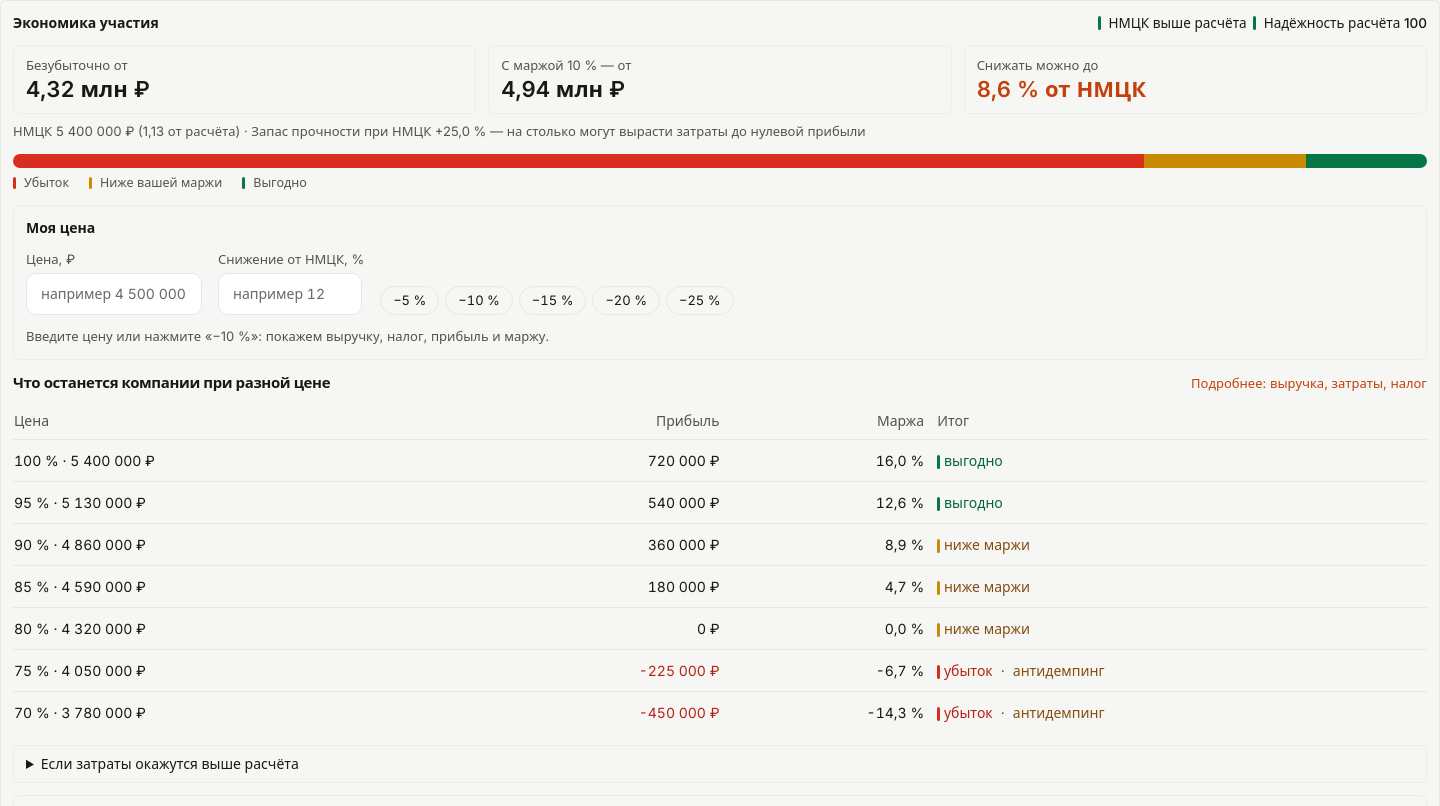
Test: «Моя цена» › 44-ФЗ: антидемпинг без «если», и ровно с 25 %; на −20 % его нет
Step 1. Click the button "−20 %" → (626, 300), box [592, 286, 660, 315]
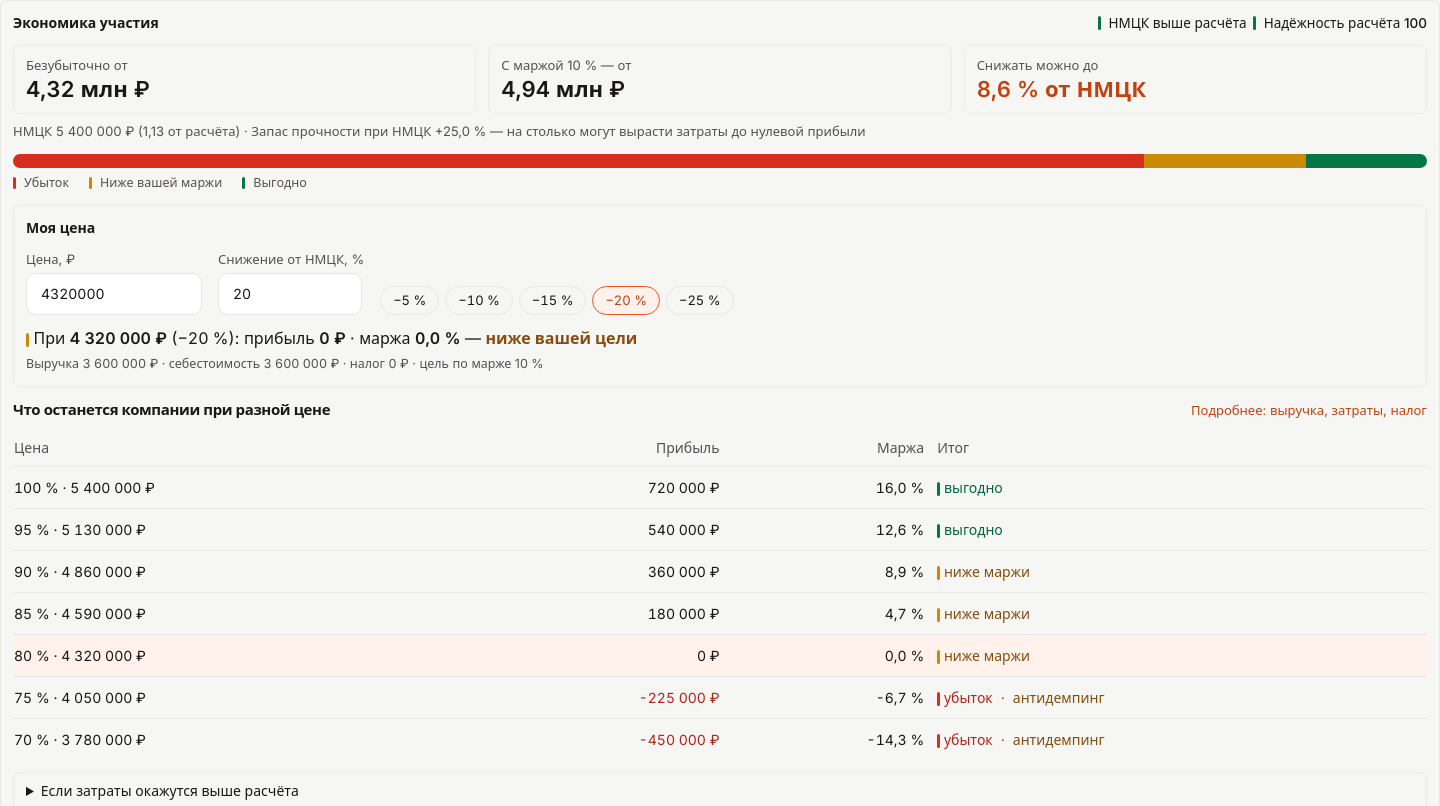
Step 2. Click the button "−25 %" → (700, 300), box [666, 286, 734, 315]
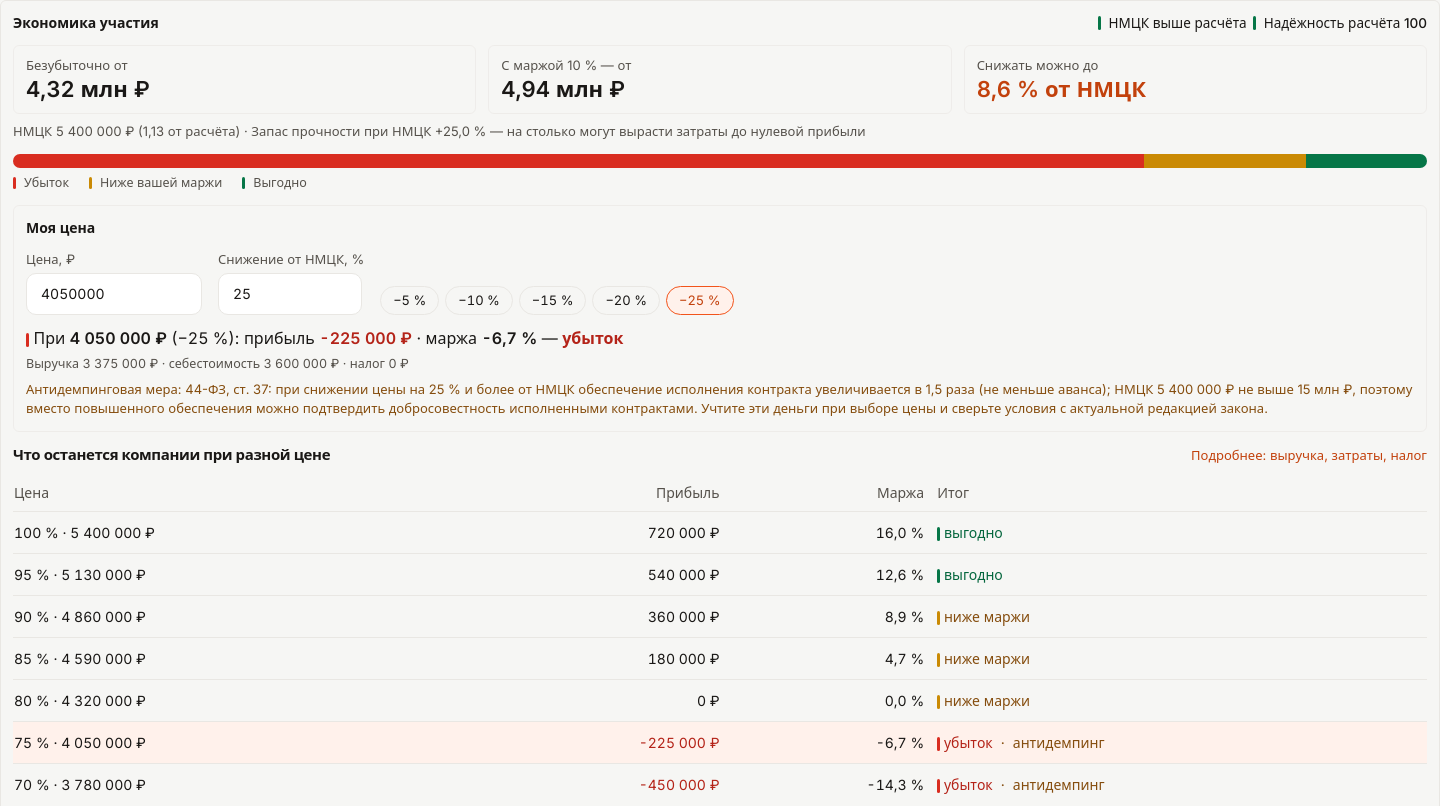
Check: the text with test id "my-price-antidumping" shows "44-ФЗ, ст. 37", box [26, 381, 1412, 416]
Check: the text with test id "my-price-antidumping" shows "1,5 раза", box [26, 381, 1412, 416]
